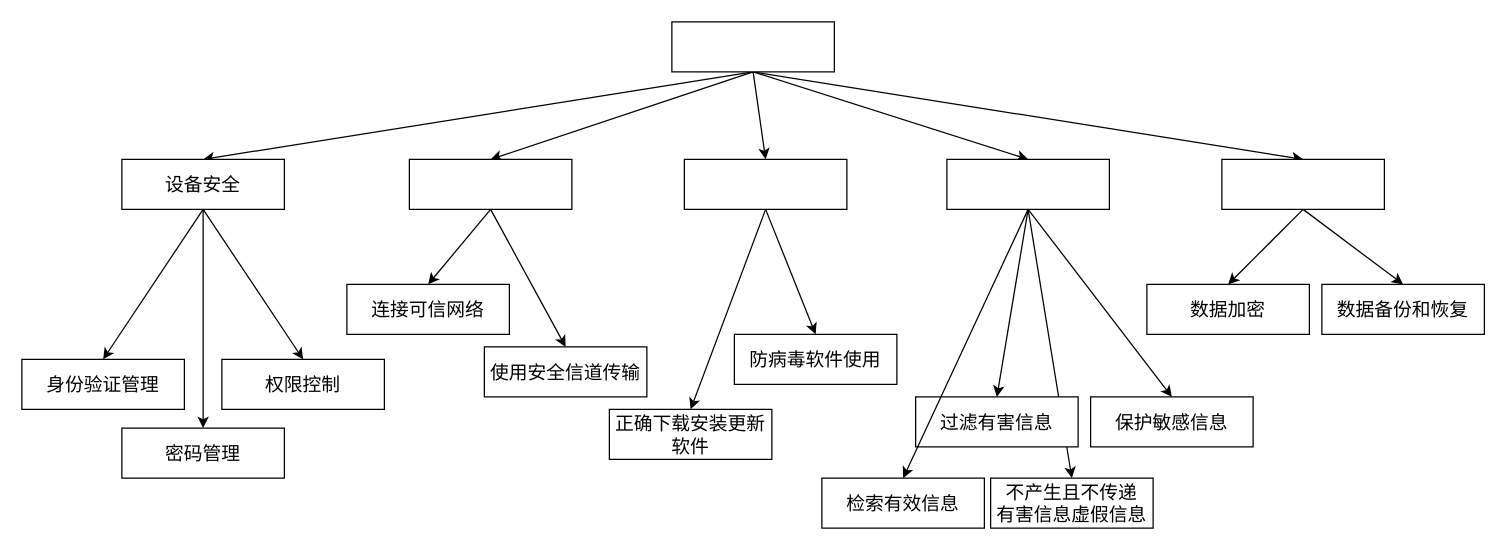
This 1506x550 diagram has some shape labels left out. The shapes that lost their labels are listed below. From the top down, each one's centre as x and y in pixels, then its label:
At (x=752, y=46): "数字安全素养".
At (x=490, y=183): "网络安全".
At (x=765, y=183): "应用安全".
At (x=1027, y=183): "信息安全".
At (x=1302, y=183): "数据安全".
